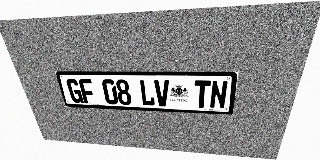0: (101, 79, 119, 105)
8: (115, 79, 132, 105)
F: (78, 79, 96, 104)
G: (65, 79, 84, 103)
L: (139, 80, 155, 106)
N: (209, 80, 228, 109)
T: (194, 80, 211, 108)
V: (154, 80, 170, 107)
